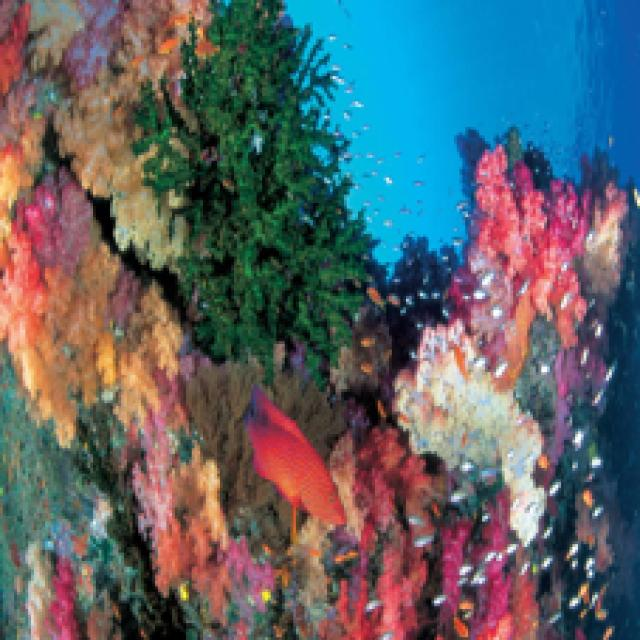Healthy: (136, 1, 368, 379), (1, 170, 176, 446), (322, 427, 534, 635), (449, 148, 590, 387), (393, 325, 545, 540), (136, 449, 272, 627)
